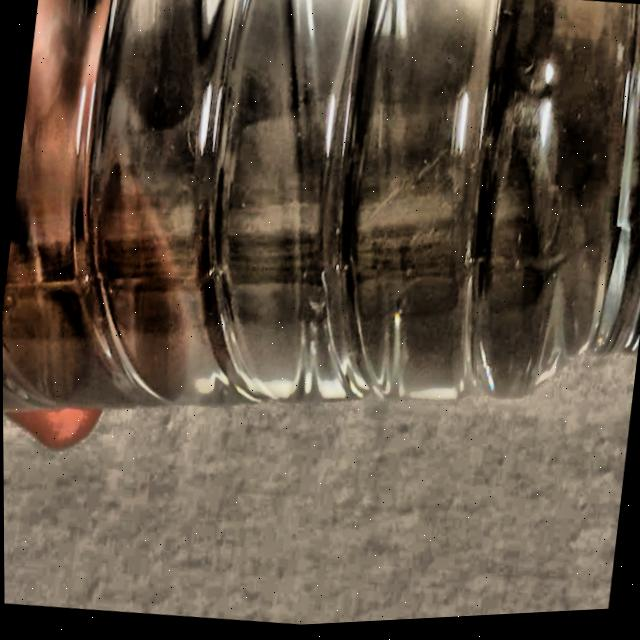plastic: (2, 0, 640, 416)
